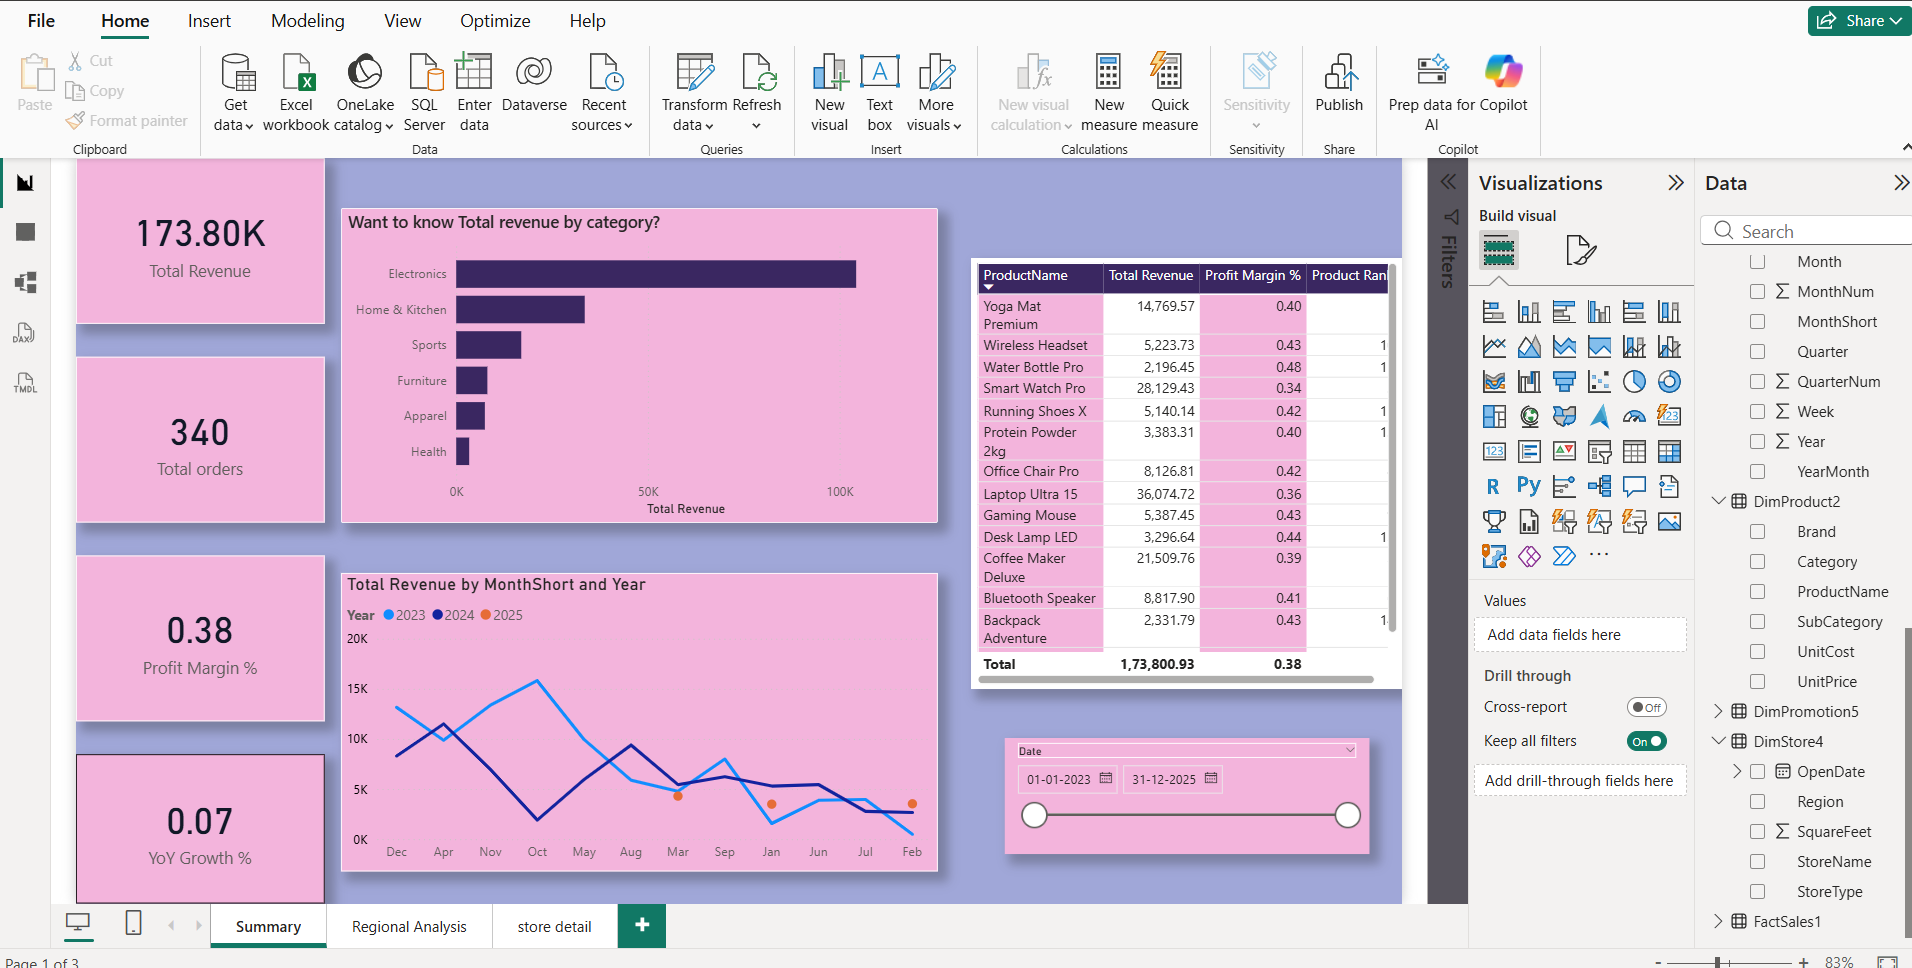

Layout of this report page (visuals, bound fields, positions):
{"tool":"powerbi","page":{"name":"Summary","canvas":[1280,720],"ordinal":0},"visuals":[{"type":"card","fields":{"Values":["_Measures.Total Revenue"]},"box":[0,0,240,160],"z":0},{"type":"card","fields":{"Values":["_Measures.Total orders"]},"box":[0,192,240,160],"z":1000},{"type":"card","fields":{"Values":["_Measures.Profit Margin %"]},"box":[0,384,240,160],"z":2000},{"type":"card","fields":{"Values":["_Measures.YoY Growth %"]},"box":[0,576,240,144],"z":3000},{"type":"lineChart","fields":{"Category":["DimDate.MonthShort"],"Y":["_Measures.Total Revenue"],"Series":["DimDate.Year"]},"box":[256,400,576,288],"z":4000},{"type":"clusteredBarChart","title":"Want to know Total revenue by category?","fields":{"Category":["DimProduct2.Category"],"Y":["_Measures.Total Revenue"]},"box":[256,48,576,304],"z":5000},{"type":"tableEx","fields":{"Values":["DimProduct2.ProductName","_Measures.Total Revenue","_Measures.Profit Margin %","_Measures.Product Rank"]},"box":[864,96,416,416],"z":6000},{"type":"slicer","fields":{"Values":["DimDate.Date"]},"box":[896,560,352,112],"z":7000}]}

Visuals, with their boxes on the page's 1280x720 design canvas (x1, y1, x2, y2). These are canvas units, not pixel positions in the 1912x968 screenshot, which may show the page scaled, cropped or inside an application window:
card - _Measures.Total Revenue: [x1=0, y1=0, x2=240, y2=160]
card - _Measures.Total orders: [x1=0, y1=192, x2=240, y2=352]
card - _Measures.Profit Margin %: [x1=0, y1=384, x2=240, y2=544]
card - _Measures.YoY Growth %: [x1=0, y1=576, x2=240, y2=720]
lineChart - DimDate.MonthShort x _Measures.Total Revenue: [x1=256, y1=400, x2=832, y2=688]
"Want to know Total revenue by category?" clusteredBarChart: [x1=256, y1=48, x2=832, y2=352]
tableEx - DimProduct2.ProductName x _Measures.Total Revenue: [x1=864, y1=96, x2=1280, y2=512]
slicer - DimDate.Date: [x1=896, y1=560, x2=1248, y2=672]
